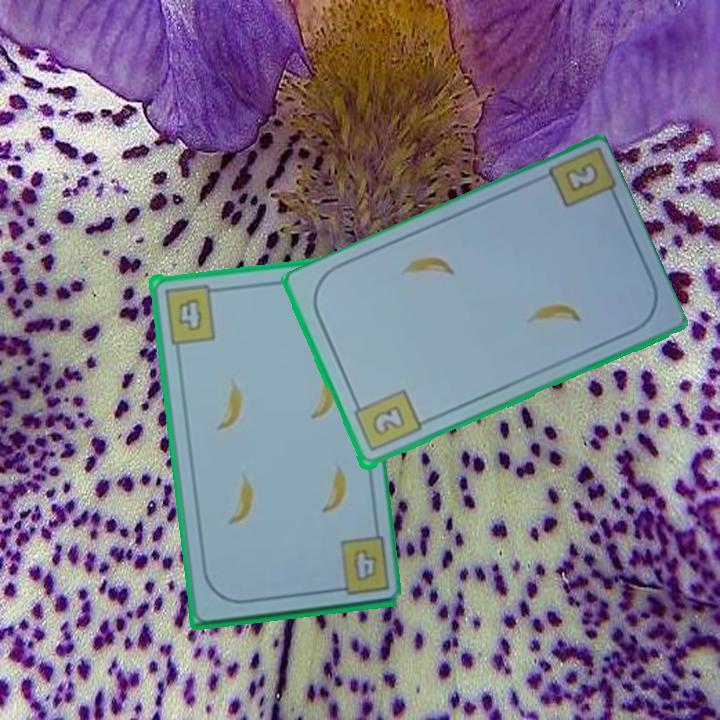2b: (349, 386, 424, 456), (560, 159, 602, 196)
4b: (326, 533, 392, 599), (160, 280, 223, 346)
